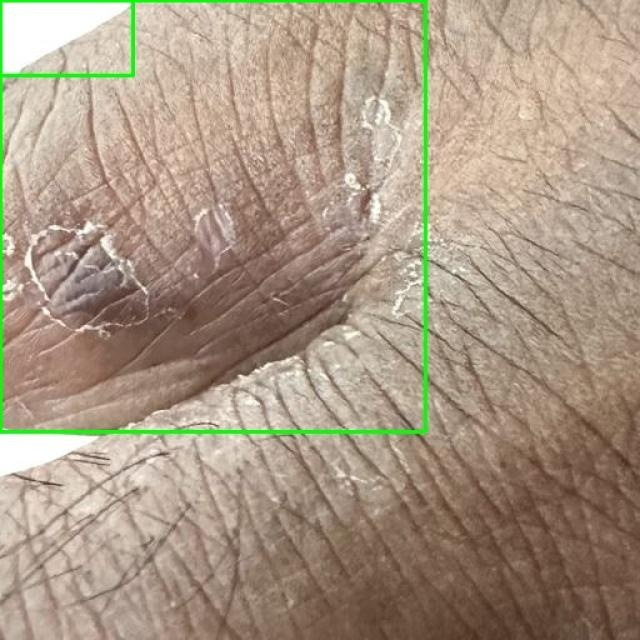Scabies: (0, 0, 425, 431), (0, 0, 134, 76)
